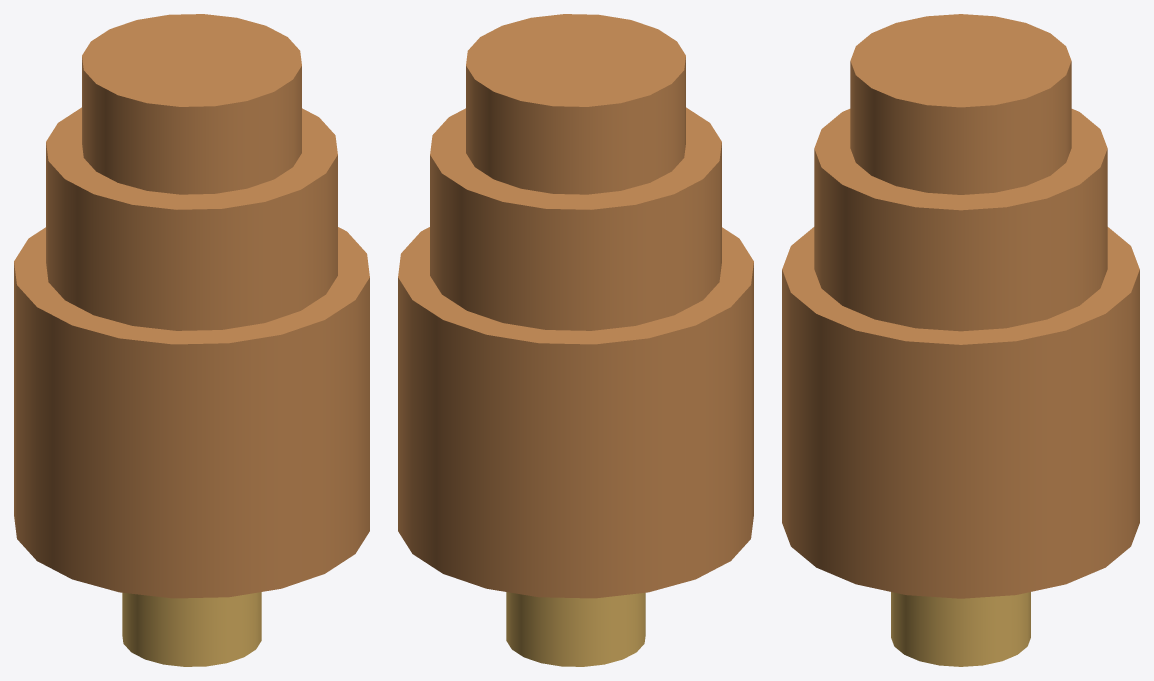
The model's file is cilindros_laranja.fbx.
3 renders of one model, left to right at view 1: azimuth 30°, elevation 25°; view 2: azimuth 150°, elevation 25°; view 3: azimuth 270°, elevation 25°, orthographic.
Parts seen in each view (by area): view 1: pCylinder15, pCylinder14, pCylinder13, arvore32; view 2: pCylinder15, pCylinder14, pCylinder13, arvore32; view 3: pCylinder15, pCylinder14, pCylinder13, arvore32.
Part boxes in pixels (left/top/right/bottom): pCylinder15: left=14, top=227, right=369, bottom=598; pCylinder14: left=46, top=107, right=337, bottom=330; pCylinder13: left=82, top=14, right=301, bottom=194; arvore32: left=122, top=592, right=261, bottom=666; pCylinder15: left=398, top=227, right=753, bottom=598; pCylinder14: left=430, top=107, right=721, bottom=330; pCylinder13: left=466, top=14, right=685, bottom=194; arvore32: left=506, top=592, right=645, bottom=666; pCylinder15: left=782, top=227, right=1139, bottom=598; pCylinder14: left=814, top=109, right=1107, bottom=331; pCylinder13: left=850, top=14, right=1071, bottom=194; arvore32: left=891, top=592, right=1030, bottom=666.
Bounding box in the file's own units: 1.72 × 3.06 × 1.72.
